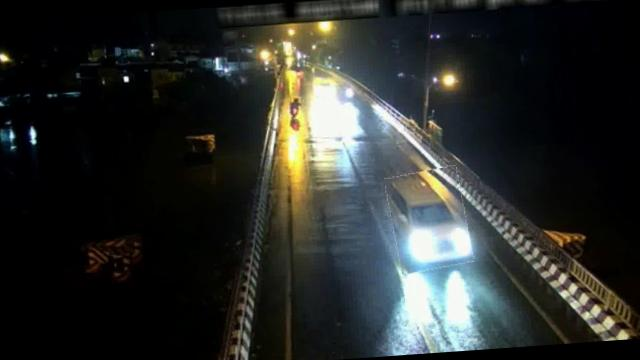Bike: (286, 96, 304, 120)
Car: (386, 166, 472, 273)
